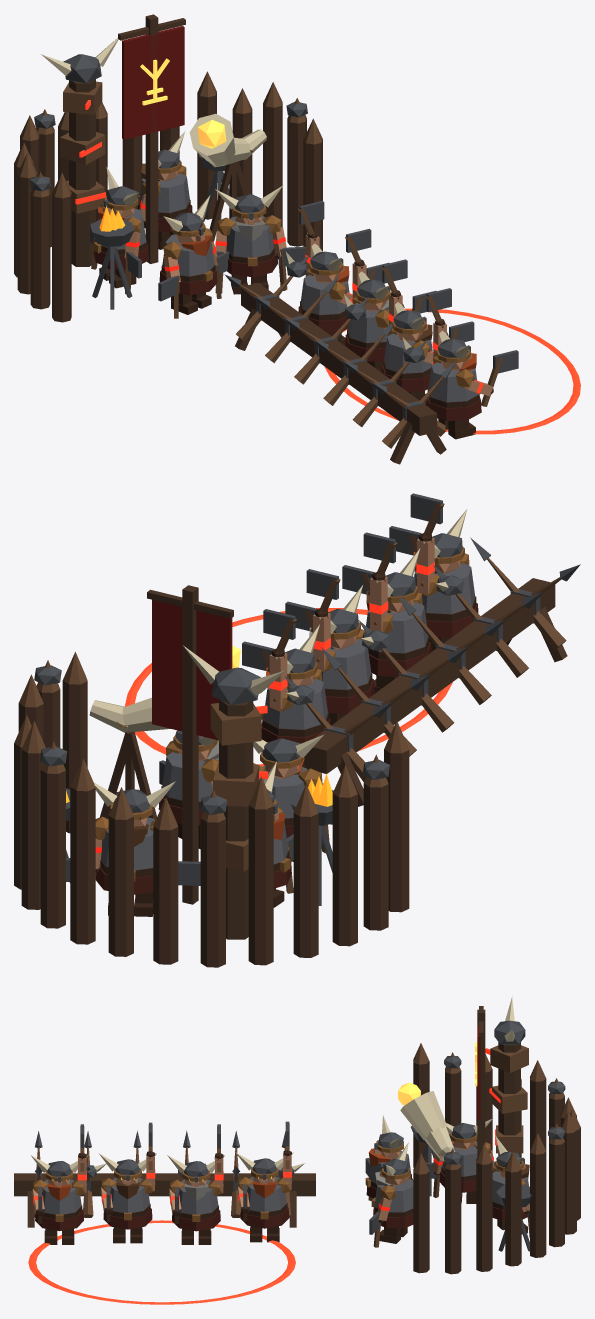
File: berserker_camp_bloodrage.glb
The picture shows the model from 3 angles, top to bottom: view 1: azimuth 30°, elevation 25°; view 2: azimuth 150°, elevation 25°; view 3: azimuth 270°, elevation 25°; orthographic projection. The views are drawn at different scales.
Parts seen in each view (by area): view 1: Banner, Barricade_Log0, Totem, Palisade_14, Palisade_13, BannerPole, Palisade_1, Palisade_2, RageAura, Palisade_12, Palisade_0, Horn_2 (+21 smaller); view 2: Barricade_Log0, Banner, BannerPole, Palisade_10, Totem, Palisade_5, Palisade_6, Palisade_12, Palisade_9, Palisade_13, Palisade_11, Palisade_7 (+41 smaller); view 3: Barricade_Log0, RageAura, Palisade_2, Palisade_1, Palisade_4, Palisade_0, Palisade_5, Palisade_3, Horn_2, Totem, Palisade_6, Palisade_10 (+19 smaller).
Boxes of the visible parts, x1,y1,x2,y2 form: Banner: (122, 26, 184, 139); Barricade_Log0: (241, 282, 437, 435); Totem: (69, 79, 95, 266); Palisade_14: (52, 193, 71, 322); Palisade_13: (30, 192, 50, 309); BannerPole: (145, 14, 158, 263); Palisade_1: (287, 118, 306, 246); Palisade_2: (263, 103, 282, 226); RageAura: (324, 308, 580, 434); Palisade_12: (17, 173, 37, 294); Palisade_0: (303, 140, 322, 251); Horn_2: (189, 113, 235, 166); Barricade_Log0: (304, 578, 555, 773); Banner: (152, 599, 232, 740); BannerPole: (182, 585, 198, 904); Palisade_10: (248, 805, 273, 965); Totem: (219, 699, 253, 939); Palisade_5: (40, 770, 65, 928); Palisade_6: (70, 787, 95, 944); Palisade_12: (332, 793, 357, 946); Palisade_9: (200, 818, 225, 967); Palisade_13: (363, 783, 388, 930); Palisade_11: (293, 813, 318, 957); Palisade_7: (108, 816, 133, 956); Barricade_Log0: (14, 1173, 315, 1196); RageAura: (28, 1220, 295, 1304); Palisade_2: (476, 1161, 492, 1271); Palisade_1: (445, 1167, 461, 1274); Palisade_4: (530, 1151, 546, 1257); Palisade_0: (413, 1171, 429, 1273); Palisade_5: (549, 1142, 564, 1247); Palisade_3: (505, 1169, 521, 1266); Horn_2: (400, 1091, 447, 1140); Totem: (498, 1042, 520, 1157); Palisade_6: (563, 1130, 576, 1234); Palisade_10: (530, 1078, 546, 1150).
Size of the model in its own units: 3 by 2.01 by 4.97.
